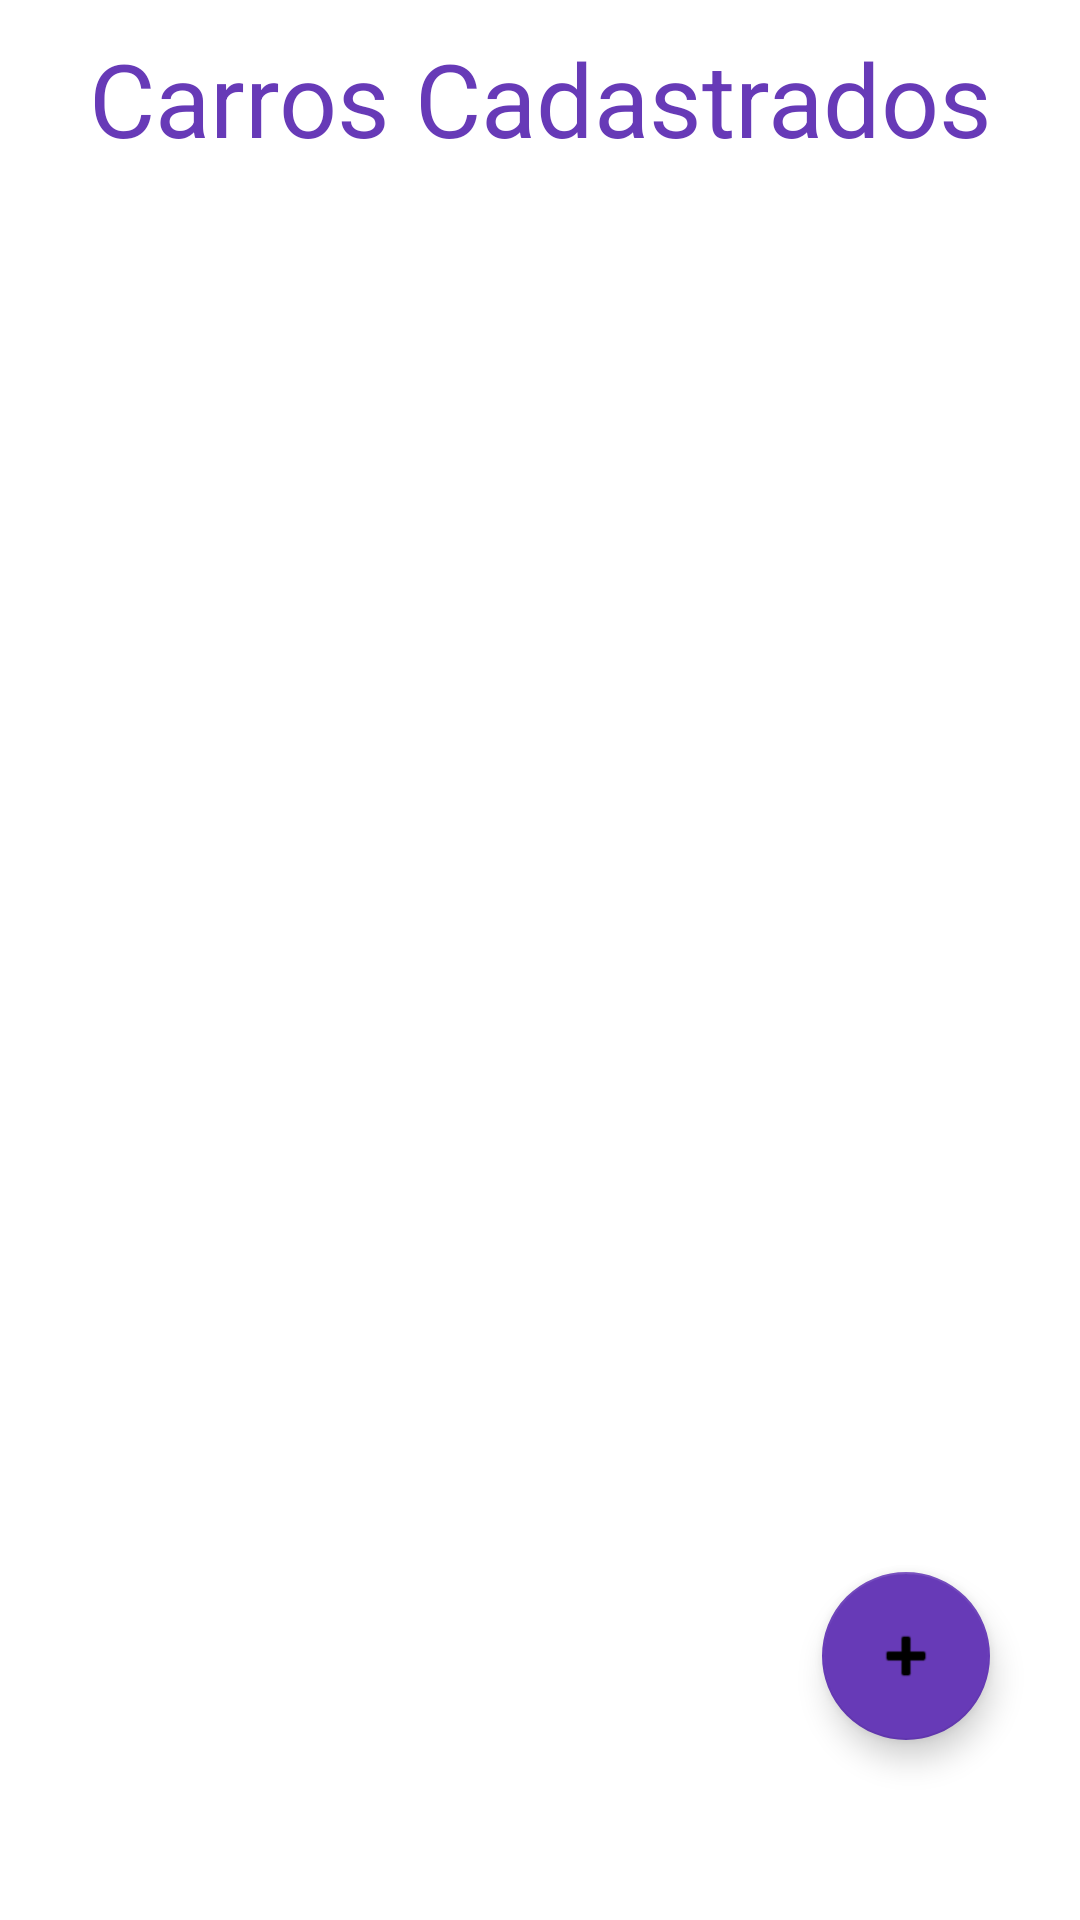

Screen size 1080 × 1920. Icon name, then its center in pixels as [x,y]:
add: [906,1656]
